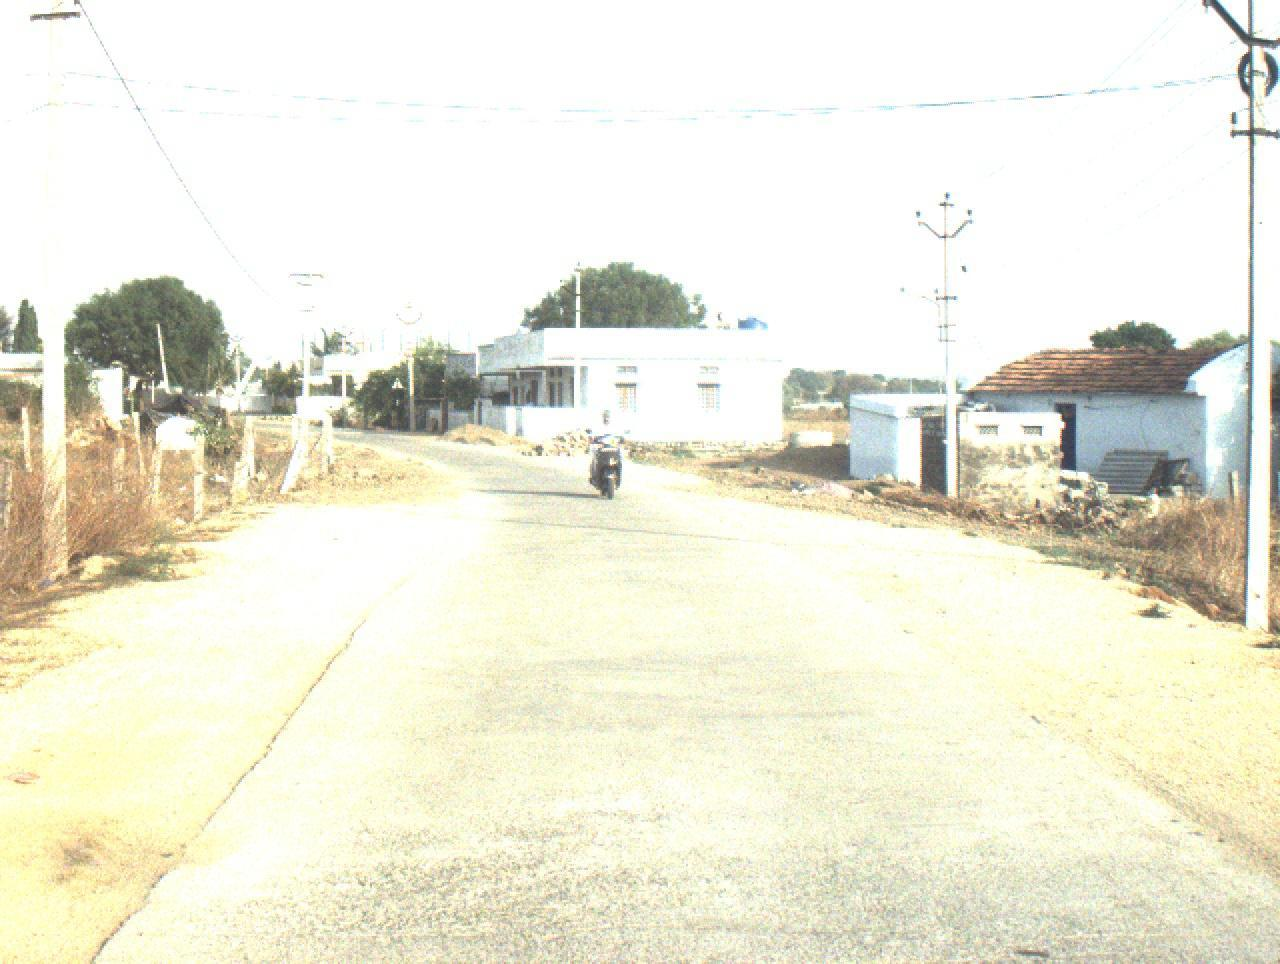off: (41, 0, 1172, 964)
